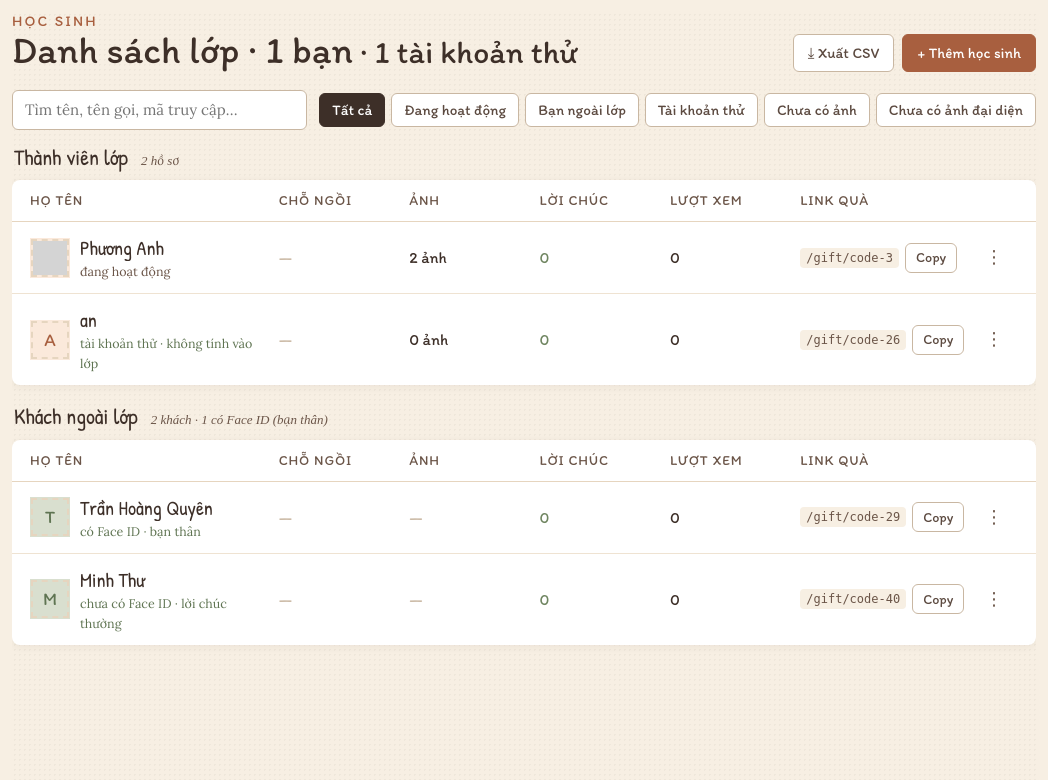
it: danh sách chia hai phần rõ ràng: thành viên lớp và khách ngoài lớp, khách ghi rõ có Face ID hay chưa
The image size is (1048, 780).
Expected: the text "Phương Anh" is shown, [80,234,170,261]
Expected: the text "an" is shown, [80,306,97,333]
// Lọc "Tài khoản thử" thì phần khách biến mất, không còn bảng rỗng
Step 1. Click the button "Tài khoản thử" → (701, 110), box [645,93,758,127]
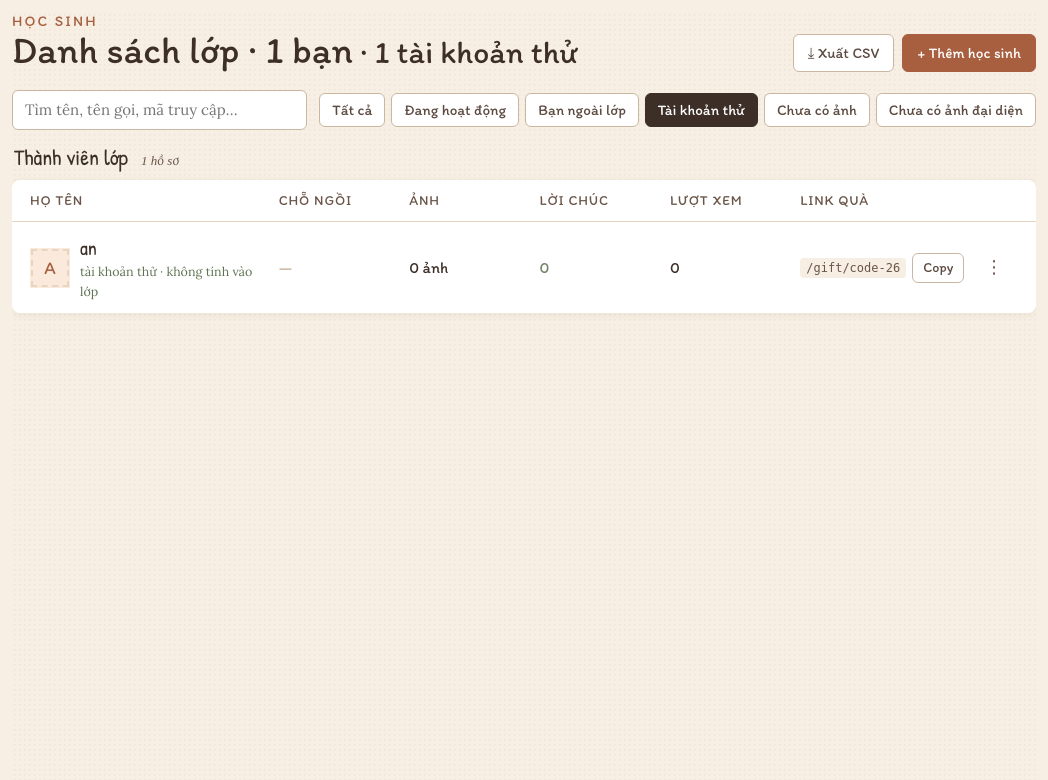
Now the heading "Khách ngoài lớp" is gone
